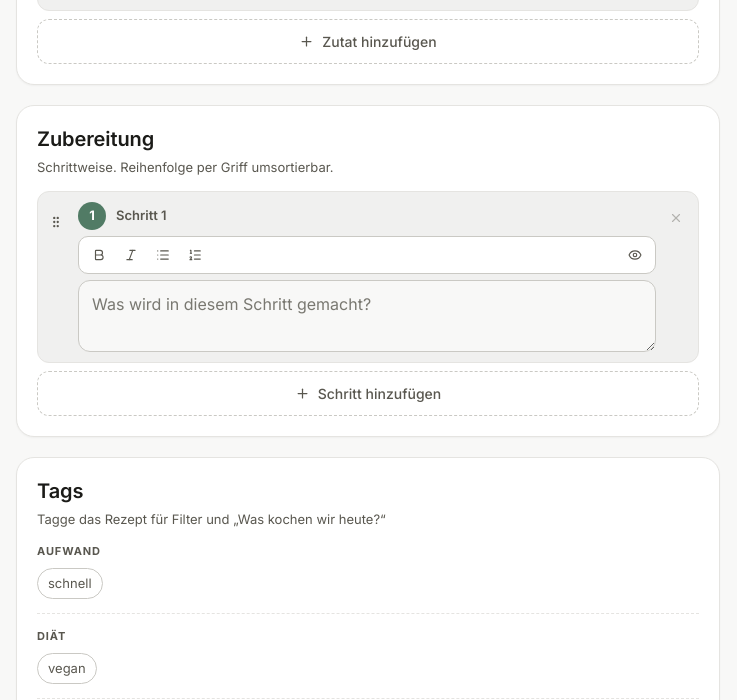
Test: RecipeFormPage (create) › wraps the selected step text in ** via the Cmd/Ctrl+B keyboard shortcut
(page scrolled)
In the text box named "Schritt 1": (367, 316) [78,280,656,352], type "Hallo Welt"
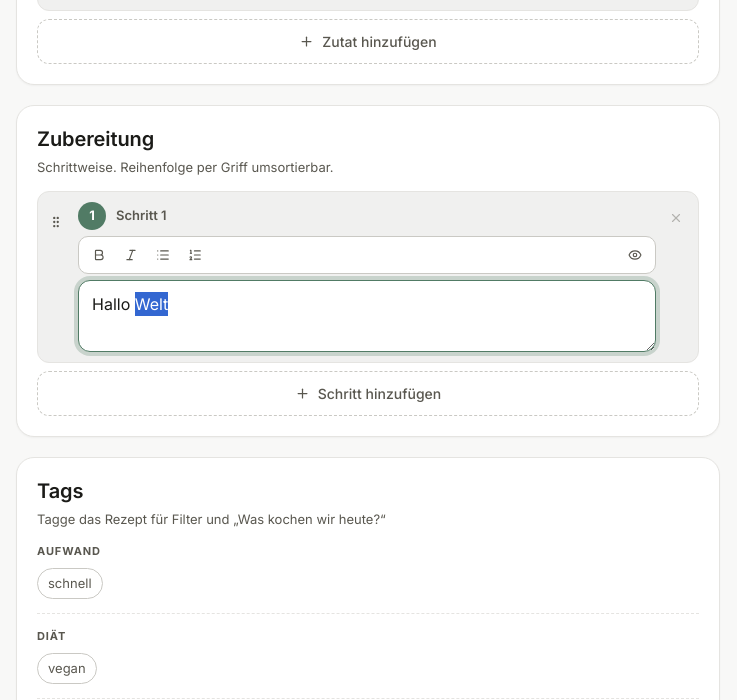
Press b in the text box named "Schritt 1", box [78,280,656,352]
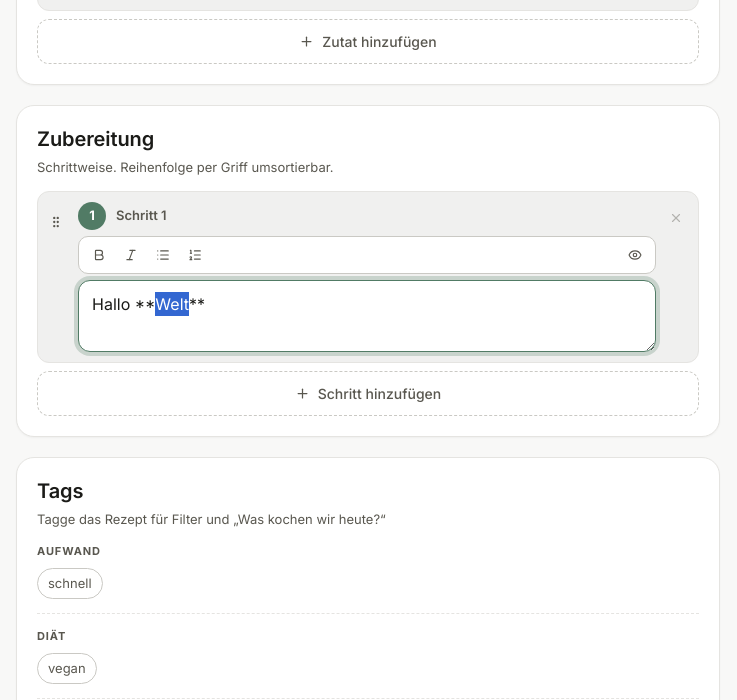
Check: the text box named "Schritt 1" holds "Hallo **Welt**", box [78,280,656,352]
